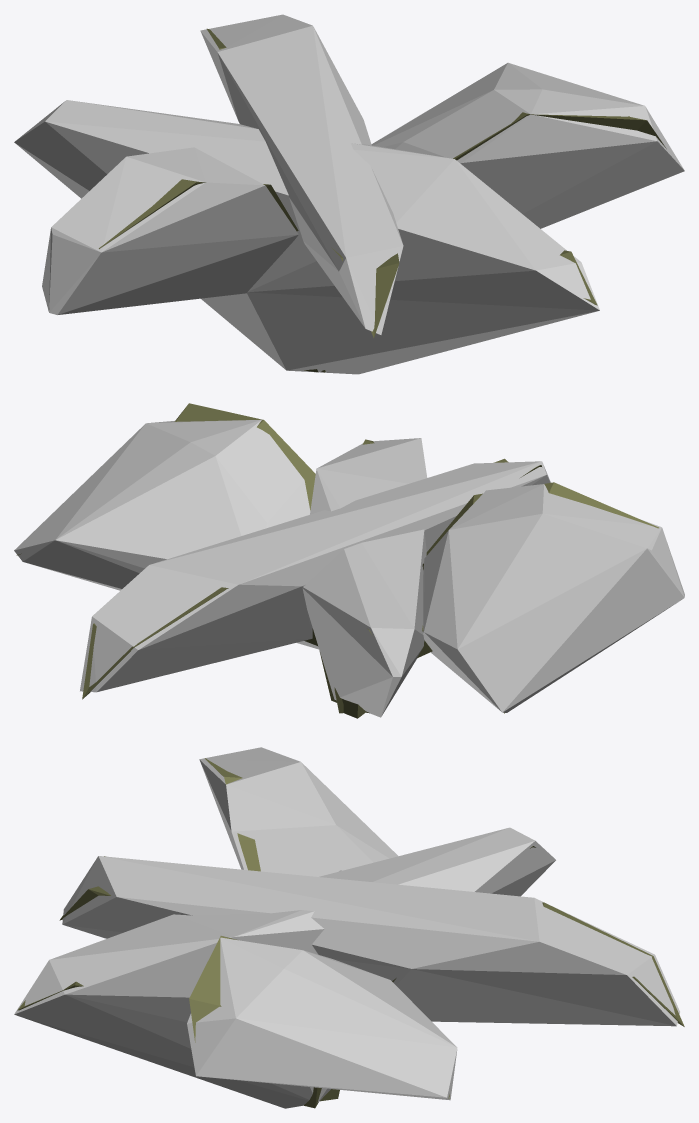
File: SM_Env_Fern_01.fbx
3 views of the same model, one above another, from view 1: azimuth 30°, elevation 25°; view 2: azimuth 150°, elevation 25°; view 3: azimuth 270°, elevation 25° (orthographic). The views are drawn at different scales.
Visible parts, largest first — view 1: SM_Env_Fern_01_ConvexHulls, SM_Env_Fern_01; view 2: SM_Env_Fern_01_ConvexHulls, SM_Env_Fern_01; view 3: SM_Env_Fern_01_ConvexHulls, SM_Env_Fern_01.
Part boxes in pixels (x1,y1,x2,y2): SM_Env_Fern_01_ConvexHulls: (14,14,684,374); SM_Env_Fern_01: (99,28,666,372); SM_Env_Fern_01_ConvexHulls: (14,419,684,717); SM_Env_Fern_01: (16,403,658,718); SM_Env_Fern_01_ConvexHulls: (14,747,679,1108); SM_Env_Fern_01: (17,758,684,1108).
Bounding box in the file's own units: 194 × 192 × 77.49.
2 materials, 1 textured.
